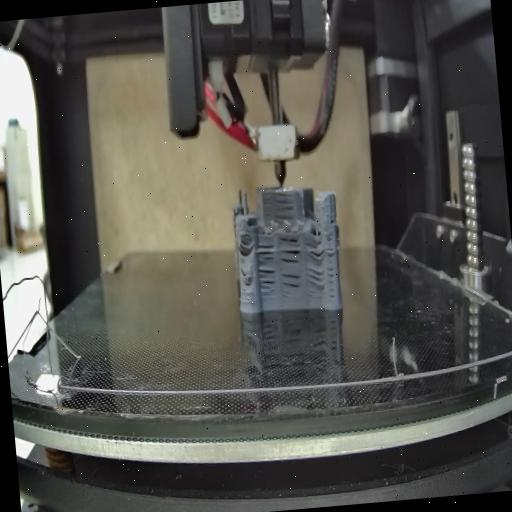cracks: (323, 233, 338, 301), (278, 234, 301, 265), (273, 193, 294, 223), (281, 270, 303, 298), (257, 266, 277, 296), (306, 264, 324, 292), (304, 237, 324, 261), (256, 242, 276, 263), (237, 239, 250, 253), (240, 268, 250, 286), (328, 211, 336, 225)
